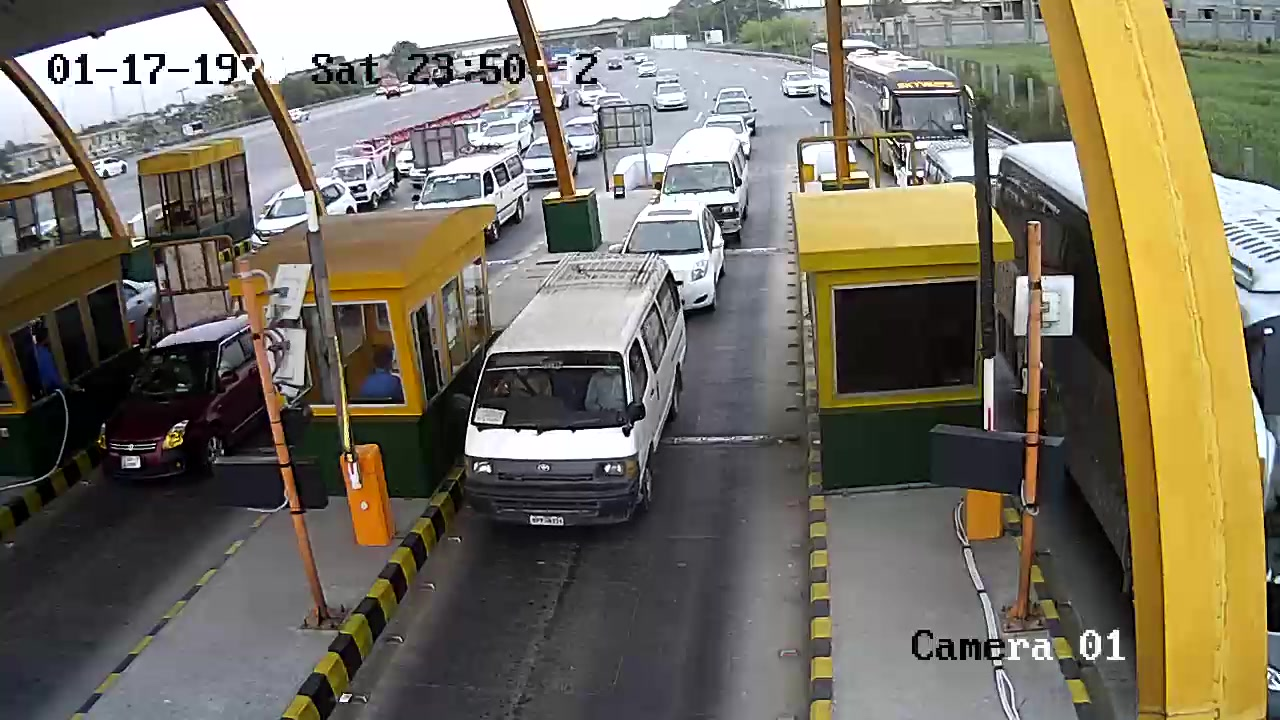F2: (462, 249, 689, 536)
